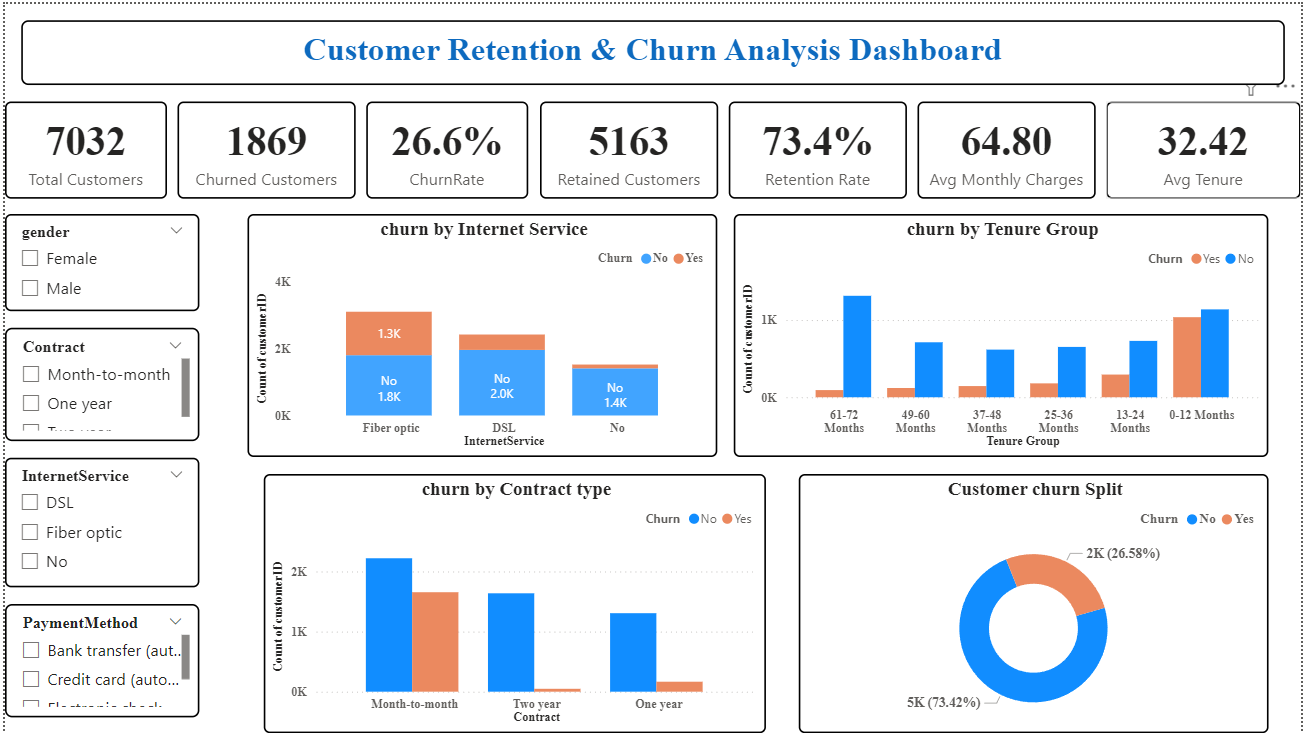

What the dashboard file says about the page in this screenshot:
{"tool":"powerbi","page":{"name":"overview","canvas":[1280,720],"ordinal":0},"visuals":[{"type":"card","fields":{"Values":["Telco-Customer-Churn 1 cleaned data(in).Total Customers"]},"box":[0,96,160,96],"z":0},{"type":"card","fields":{"Values":["Telco-Customer-Churn 1 cleaned data(in).Churned Customers"]},"box":[170.7,96,176,96],"z":1000},{"type":"card","fields":{"Values":["Telco-Customer-Churn 1 cleaned data(in).Retained Customers"]},"box":[528,96,176,96],"z":2000},{"type":"card","fields":{"Values":["Telco-Customer-Churn 1 cleaned data(in).ChurnRate"]},"box":[357.3,96,160,96],"z":3000},{"type":"card","fields":{"Values":["Telco-Customer-Churn 1 cleaned data(in).Retention Rate"]},"box":[714.7,96,176,96],"z":4000},{"type":"card","fields":{"Values":["Telco-Customer-Churn 1 cleaned data(in).Avg Monthly Charges"]},"box":[901.3,96,176,96],"z":5000},{"type":"card","fields":{"Values":["Telco-Customer-Churn 1 cleaned data(in).Avg Tenure"]},"box":[1088,96,192,96],"z":6000},{"type":"donutChart","title":"Customer churn Split","fields":{"Category":["Telco-Customer-Churn 1 cleaned data(in).Churn"],"Y":["CountNonNull(Telco-Customer-Churn 1 cleaned data(in).customerID)"]},"box":[784,464,464,256],"z":7000},{"type":"clusteredColumnChart","title":"churn by Contract type ","fields":{"Category":["Telco-Customer-Churn 1 cleaned data(in).Contract"],"Y":["CountNonNull(Telco-Customer-Churn 1 cleaned data(in).customerID)"],"Series":["Telco-Customer-Churn 1 cleaned data(in).Churn"]},"box":[256,464,496,256],"z":8000},{"type":"clusteredColumnChart","title":"churn by Tenure Group","fields":{"Category":["Telco-Customer-Churn 1 cleaned data(in).Tenure Group"],"Y":["CountNonNull(Telco-Customer-Churn 1 cleaned data(in).customerID)"],"Series":["Telco-Customer-Churn 1 cleaned data(in).Churn"]},"box":[720,208,528,240],"z":9000},{"type":"columnChart","title":"churn by Internet Service ","fields":{"Category":["Telco-Customer-Churn 1 cleaned data(in).InternetService"],"Series":["Telco-Customer-Churn 1 cleaned data(in).Churn"],"Y":["CountNonNull(Telco-Customer-Churn 1 cleaned data(in).customerID)"]},"box":[240,208,464,240],"z":10000},{"type":"slicer","fields":{"Values":["Telco-Customer-Churn 1 cleaned data(in).gender"]},"box":[0,208,192,96],"z":11000},{"type":"slicer","fields":{"Values":["Telco-Customer-Churn 1 cleaned data(in).Contract"]},"box":[0,320,192,112],"z":12000},{"type":"slicer","fields":{"Values":["Telco-Customer-Churn 1 cleaned data(in).InternetService"]},"box":[0,448,192,128],"z":13000},{"type":"slicer","fields":{"Values":["Telco-Customer-Churn 1 cleaned data(in).PaymentMethod"]},"box":[0,592,192,112],"z":14000},{"type":"textbox","box":[16,16,1248,64],"z":15000}]}

Visuals, with their boxes in screenshot pixels (x1, y1, x2, y2), scaled from the page's 1280x720 canvas onto the 1303x733 screenshot:
card - Telco-Customer-Churn 1 cleaned data(in).Total Customers: x1=0, y1=98, x2=163, y2=195
card - Telco-Customer-Churn 1 cleaned data(in).Churned Customers: x1=174, y1=98, x2=353, y2=195
card - Telco-Customer-Churn 1 cleaned data(in).Retained Customers: x1=537, y1=98, x2=717, y2=195
card - Telco-Customer-Churn 1 cleaned data(in).ChurnRate: x1=364, y1=98, x2=527, y2=195
card - Telco-Customer-Churn 1 cleaned data(in).Retention Rate: x1=728, y1=98, x2=907, y2=195
card - Telco-Customer-Churn 1 cleaned data(in).Avg Monthly Charges: x1=917, y1=98, x2=1097, y2=195
card - Telco-Customer-Churn 1 cleaned data(in).Avg Tenure: x1=1108, y1=98, x2=1302, y2=195
"Customer churn Split" donutChart: x1=798, y1=472, x2=1270, y2=732
"churn by Contract type " clusteredColumnChart: x1=261, y1=472, x2=766, y2=732
"churn by Tenure Group" clusteredColumnChart: x1=733, y1=212, x2=1270, y2=456
"churn by Internet Service " columnChart: x1=244, y1=212, x2=717, y2=456
slicer - Telco-Customer-Churn 1 cleaned data(in).gender: x1=0, y1=212, x2=195, y2=309
slicer - Telco-Customer-Churn 1 cleaned data(in).Contract: x1=0, y1=326, x2=195, y2=440
slicer - Telco-Customer-Churn 1 cleaned data(in).InternetService: x1=0, y1=456, x2=195, y2=586
slicer - Telco-Customer-Churn 1 cleaned data(in).PaymentMethod: x1=0, y1=603, x2=195, y2=717
textbox: x1=16, y1=16, x2=1287, y2=81
